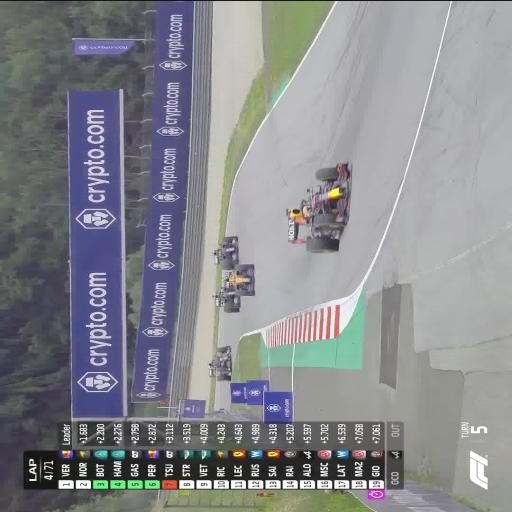f1_car: (287, 162, 349, 253), (223, 263, 254, 295), (211, 235, 238, 269), (207, 345, 231, 381), (212, 286, 239, 312)
